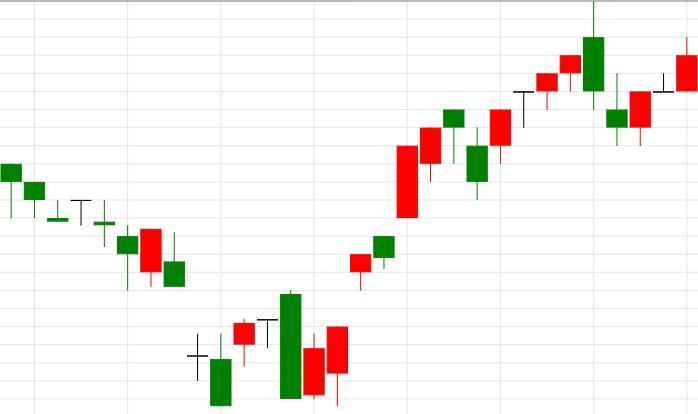bearish_engulfing_fall: (466, 0, 605, 201)
hanging_man_fall: (279, 109, 466, 406)
